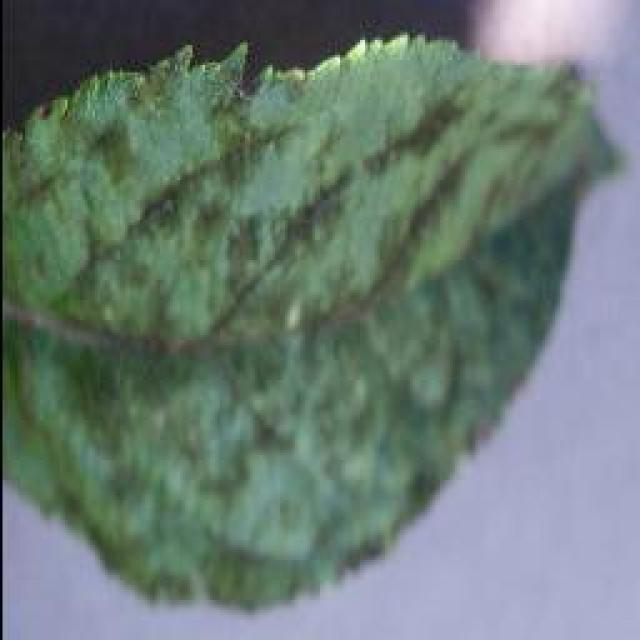apple scab disease: (0, 27, 622, 612)
